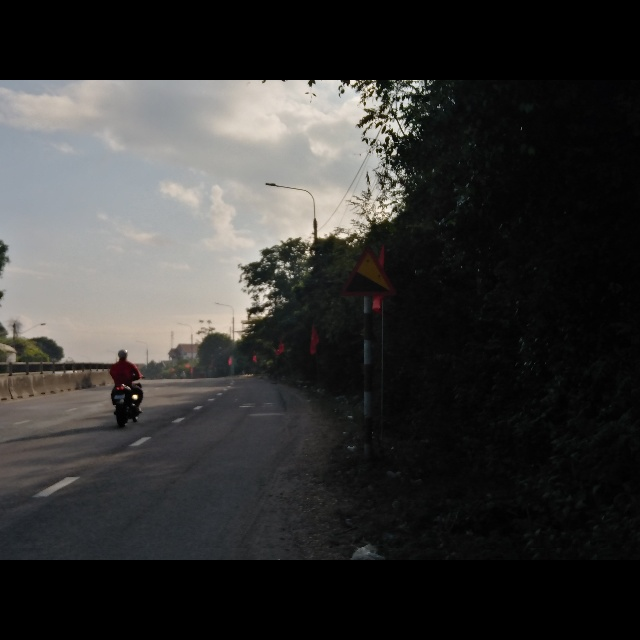Dốc lên nguy hiểm: (338, 243, 396, 298)
